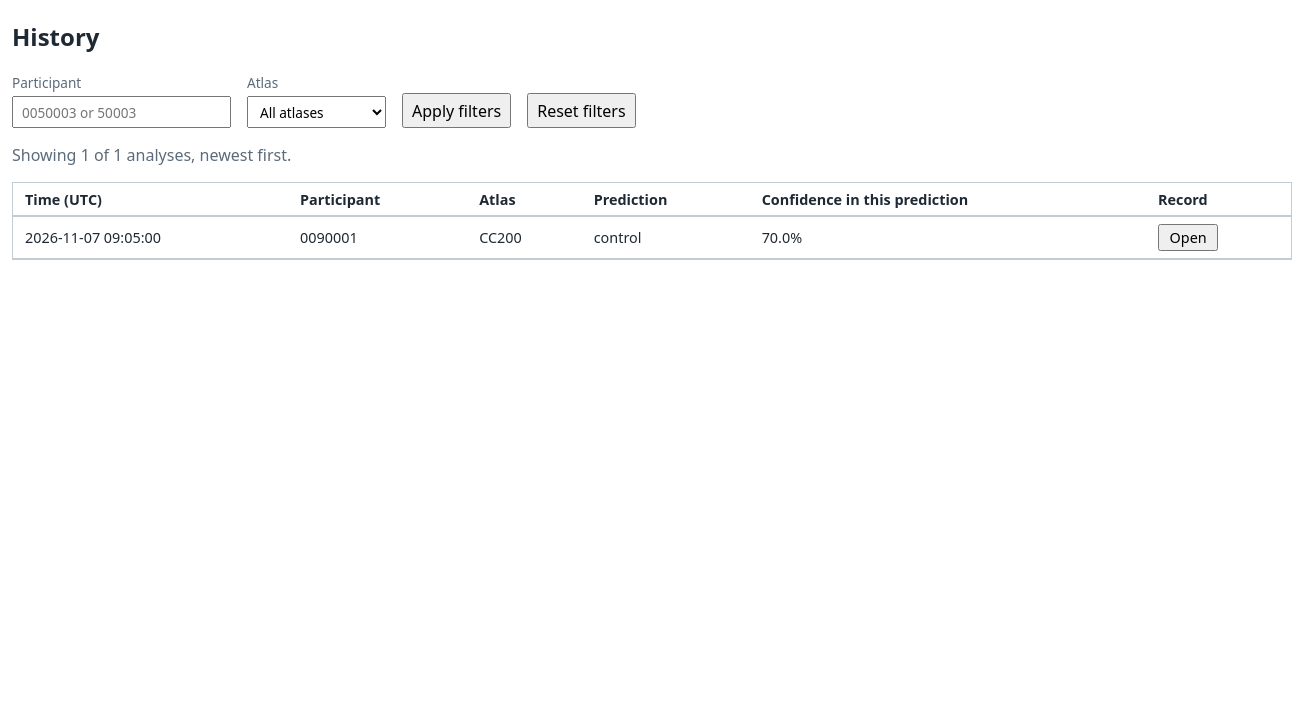
Scenario: History page: export and regenerate › shows the API message when the analysis cannot be regenerated
The width and height of the screenshot is (1292, 720).
Click the button with aria-label "Open analysis a1b2c3d4e5f6": (1188, 238) [1158, 224, 1218, 251]
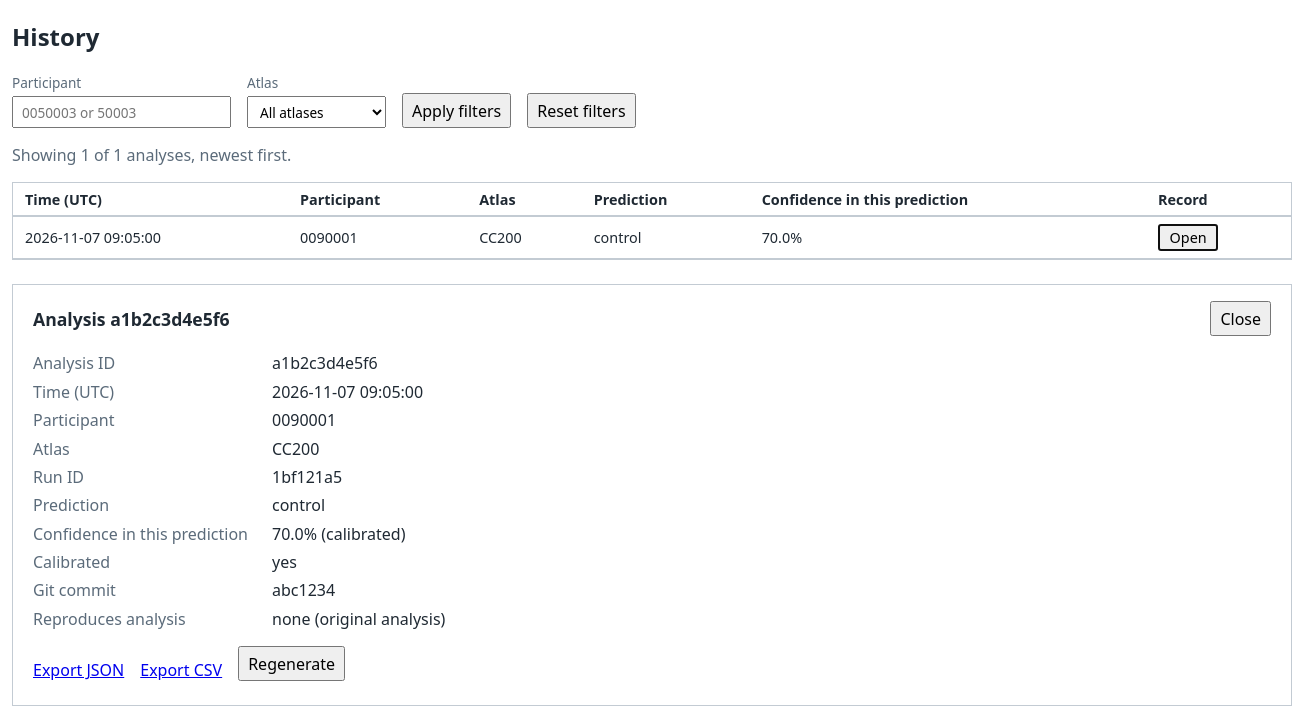
Expected: the button "Regenerate" is shown
Click the button "Regenerate": (292, 664) [238, 646, 345, 682]
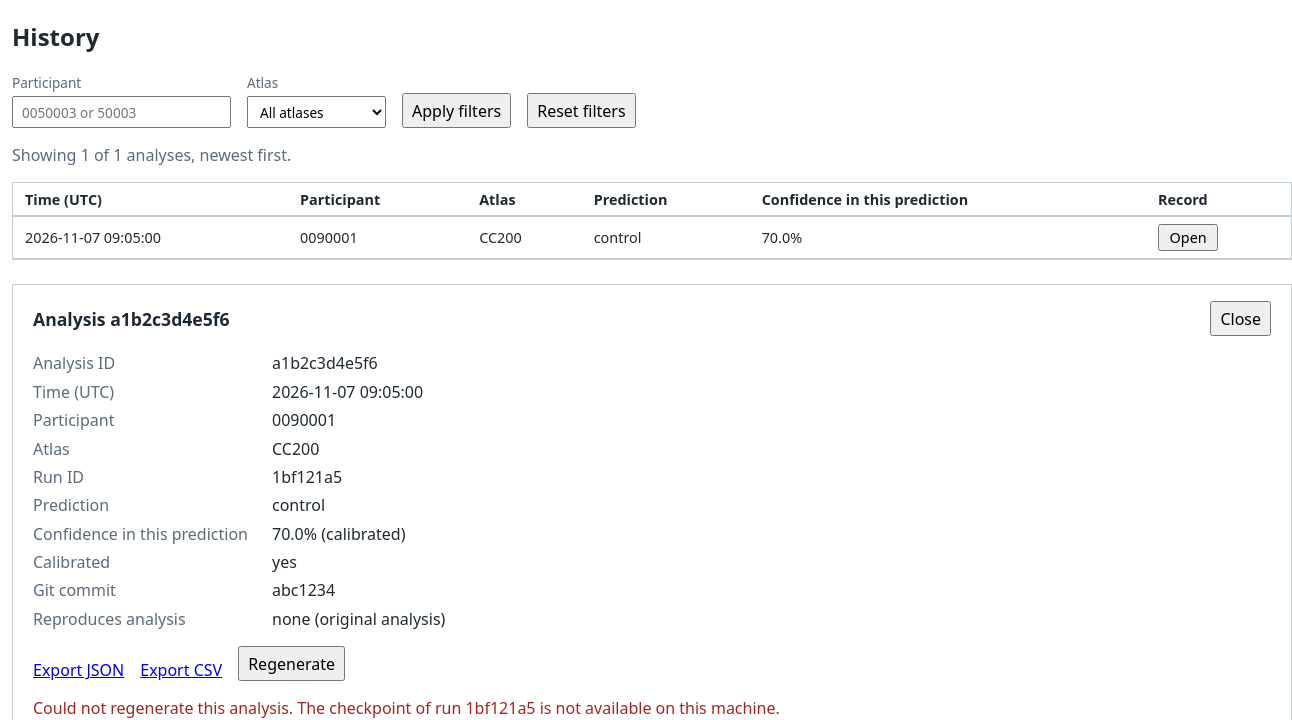
Expected: the text "Could not regenerate this analysis" is shown, [33, 698, 297, 719]
Expected: the text "checkpoint of run 1bf121a5 is not available" is shown, [297, 698, 780, 719]
